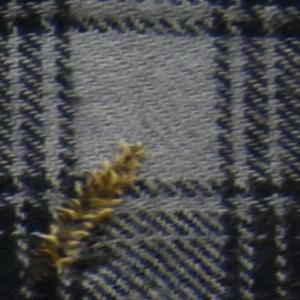Damage: (35, 148, 143, 275)
Oil Stain: (17, 142, 149, 295)
